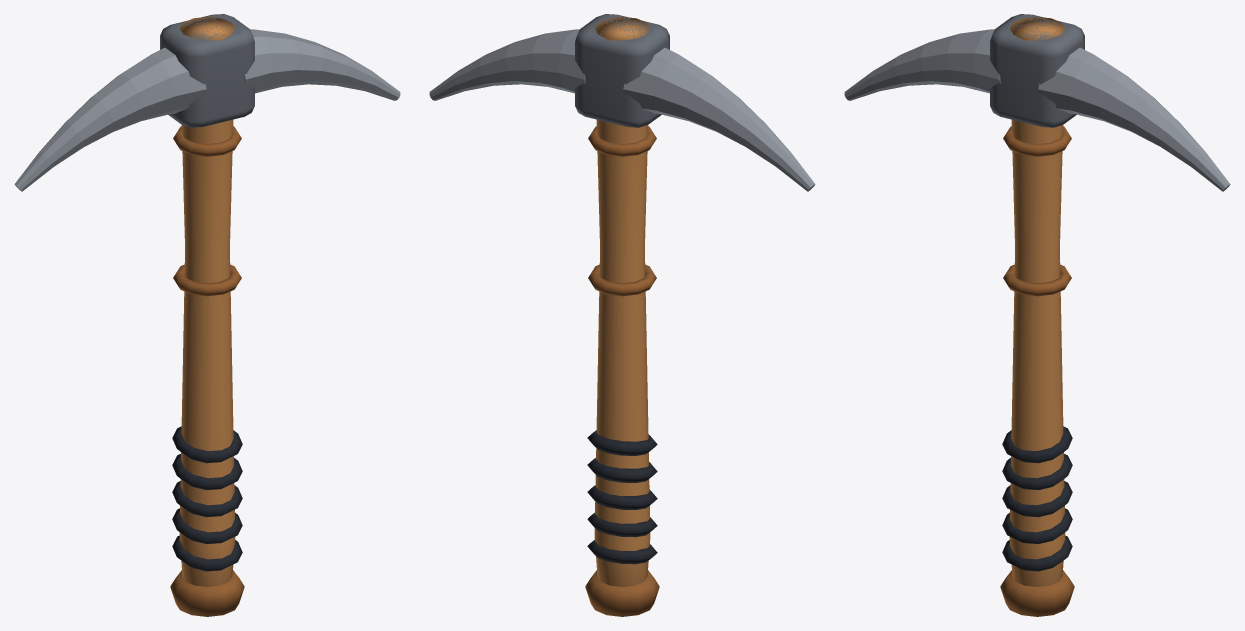
Rendered from IcePick_T2.fbx.
3 renders of one model, left to right at view 1: azimuth 30°, elevation 25°; view 2: azimuth 150°, elevation 25°; view 3: azimuth 330°, elevation 25°, orthographic.
Parts seen in each view (by area): view 1: IcePickT2Handle, IcePickT2Head; view 2: IcePickT2Handle, IcePickT2Head; view 3: IcePickT2Handle, IcePickT2Head.
Boxes of the visible parts, <box> form: IcePickT2Handle: <box>170,16,244,616</box>; IcePickT2Head: <box>14,14,400,191</box>; IcePickT2Handle: <box>585,16,659,616</box>; IcePickT2Head: <box>429,14,815,191</box>; IcePickT2Handle: <box>1000,16,1074,616</box>; IcePickT2Head: <box>844,14,1230,191</box>.
Size of the model in its own units: 237 by 340 by 40.
